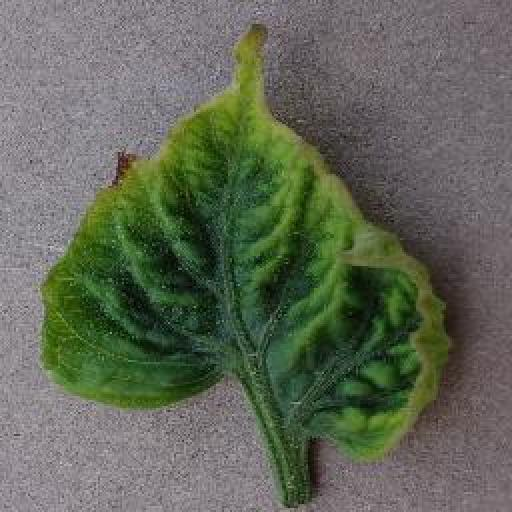Yellow Leaf Curl Virus: (37, 21, 460, 460)
